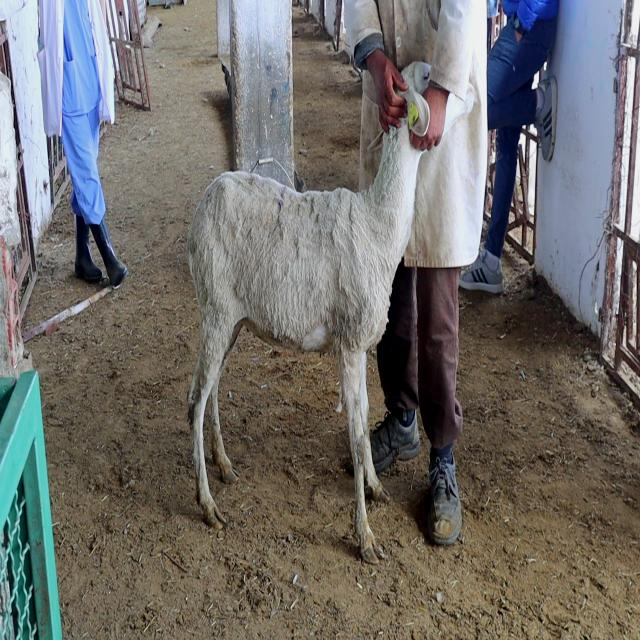Score_1: (187, 62, 430, 564)
